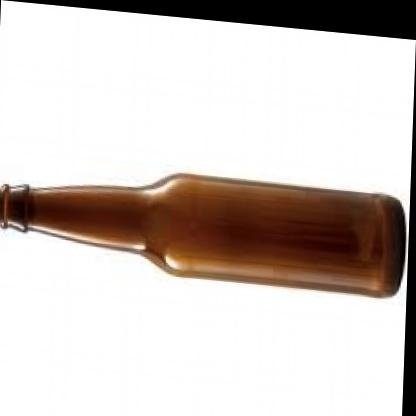trash: (0, 173, 405, 296)
